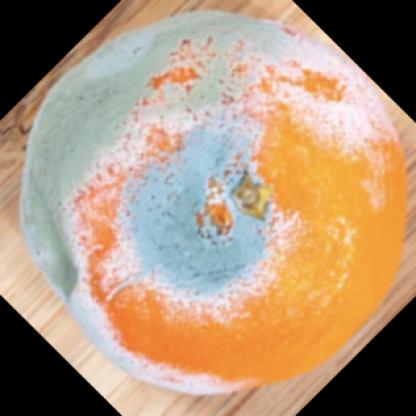rotten: (23, 12, 409, 392)
